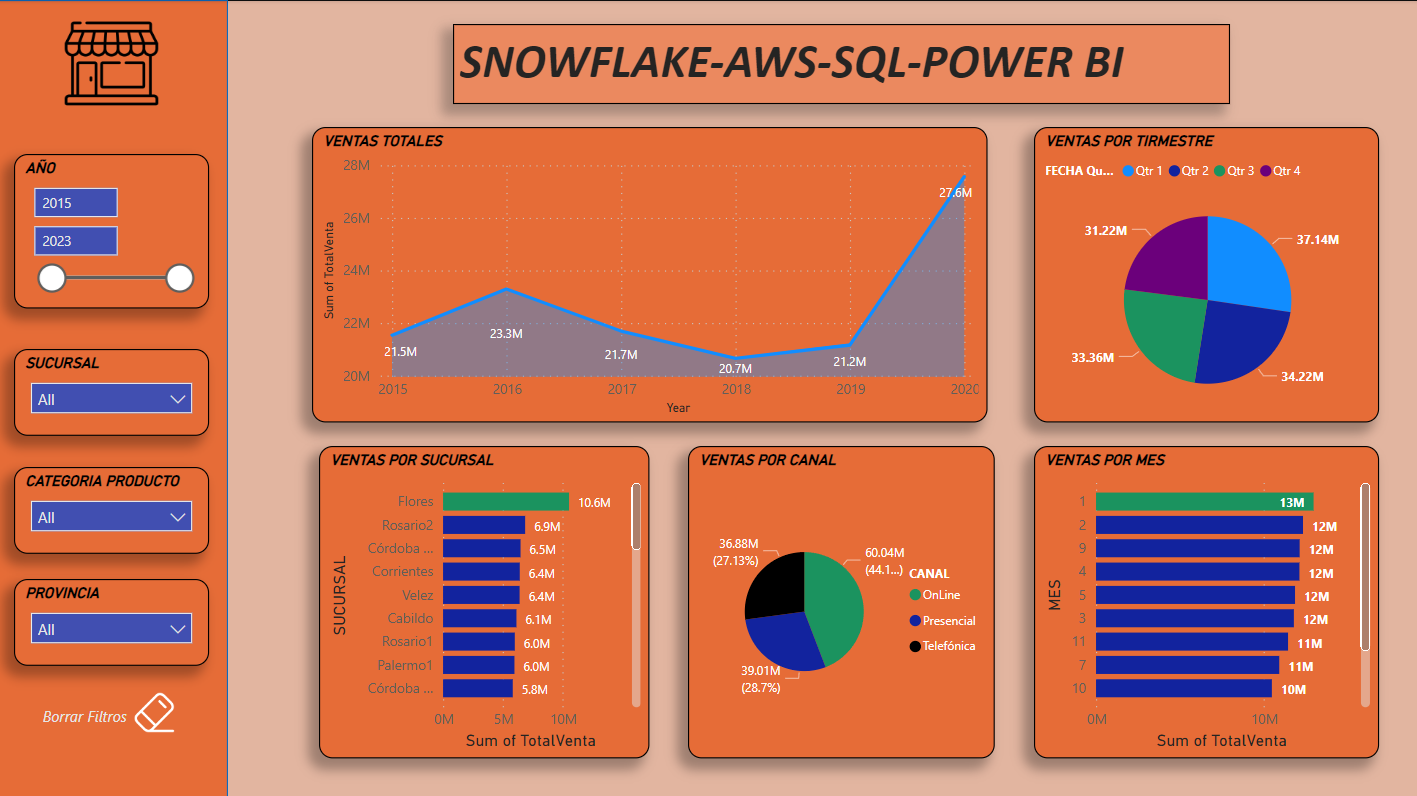

The page's visual inventory and layout, read from the dashboard file:
{"tool":"powerbi","page":{"name":"Ventas","canvas":[1280,720],"ordinal":0},"visuals":[{"type":"shape","box":[0,0,188.7,719.8],"z":0},{"type":"areaChart","title":"Ventas por Año","fields":{"Category":["TABLACALENDARIO.ANIO"],"Y":["_Medidas.TotalVenta"]},"box":[230.5,122.6,589.4,144],"z":2000},{"type":"map","title":"Mapa de Ventas","fields":{"Size":["_Medidas.TotalVenta"],"Y":["SUCURSAL.LATITUD"],"X":["SUCURSAL.LONGITUD"]},"box":[828.7,122.6,406.6,303.5],"z":3000},{"type":"treemap","title":"Top 5 Tipos de Productos","fields":{"Group":["TIPO_PRODUCTO.TIPOPRODUCTO"],"Values":["_Medidas.TotalVenta"]},"box":[230.5,445.5,437.7,239.3],"z":4000},{"type":"donutChart","title":"Ventas por Canal","fields":{"Category":["CANAL_VENTA.CANAL"],"Y":["_Medidas.TotalVenta"]},"box":[967.8,445.5,267.5,239.3],"z":5000},{"type":"clusteredBarChart","title":"Top 5 Sucursales","fields":{"Category":["SUCURSAL.SUCURSAL"],"Y":["_Medidas.TotalVenta"]},"box":[683.8,445.5,267.5,239.3],"z":6000},{"type":"areaChart","title":"Ventas por Mes","fields":{"Y":["_Medidas.TotalVenta"],"Category":["TABLACALENDARIO.MES"]},"box":[230.5,282.1,589.4,144],"z":7000},{"type":"image","box":[0,0,188.7,194.5],"z":7004},{"type":"slicer","fields":{"Values":["TABLACALENDARIO.ANIO"]},"box":[7.9,239.4,170.1,69.3],"z":7005},{"type":"textbox","box":[331.5,28.1,814.7,69.3],"z":7008},{"type":"slicer","fields":{"Values":["PROVINCIA.PROVINCIA"]},"box":[7.9,332.7,170.1,69.3],"z":7009},{"type":"slicer","fields":{"Values":["SUCURSAL.SUCURSAL"]},"box":[7.9,425.9,170.1,69.3],"z":7010},{"type":"slicer","fields":{"Values":["CANAL_VENTA.CANAL"]},"box":[7.9,519.2,170.1,69.3],"z":7011}]}

Visuals, with their boxes in screenshot pixels (x1, y1, x2, y2), scaled from the page's 1280x720 canvas onto the 1417x796 screenshot:
shape: select_region(0, 0, 209, 795)
"Ventas por Año" areaChart: select_region(255, 136, 908, 295)
"Mapa de Ventas" map: select_region(917, 136, 1368, 471)
"Top 5 Tipos de Productos" treemap: select_region(255, 493, 740, 757)
"Ventas por Canal" donutChart: select_region(1071, 493, 1368, 757)
"Top 5 Sucursales" clusteredBarChart: select_region(757, 493, 1053, 757)
"Ventas por Mes" areaChart: select_region(255, 312, 908, 471)
image: select_region(0, 0, 209, 215)
slicer - TABLACALENDARIO.ANIO: select_region(9, 265, 197, 341)
textbox: select_region(367, 31, 1269, 108)
slicer - PROVINCIA.PROVINCIA: select_region(9, 368, 197, 444)
slicer - SUCURSAL.SUCURSAL: select_region(9, 471, 197, 547)
slicer - CANAL_VENTA.CANAL: select_region(9, 574, 197, 651)
